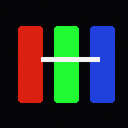3 line_h: (41, 57, 99, 61)
